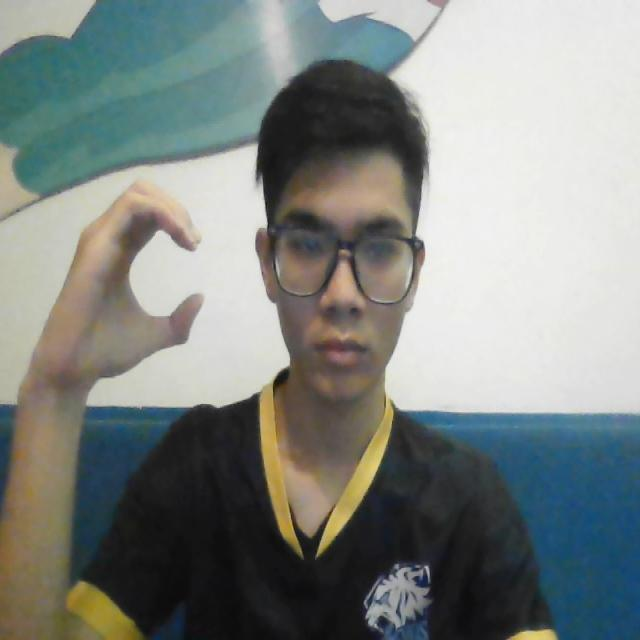C: (58, 176, 213, 369)
